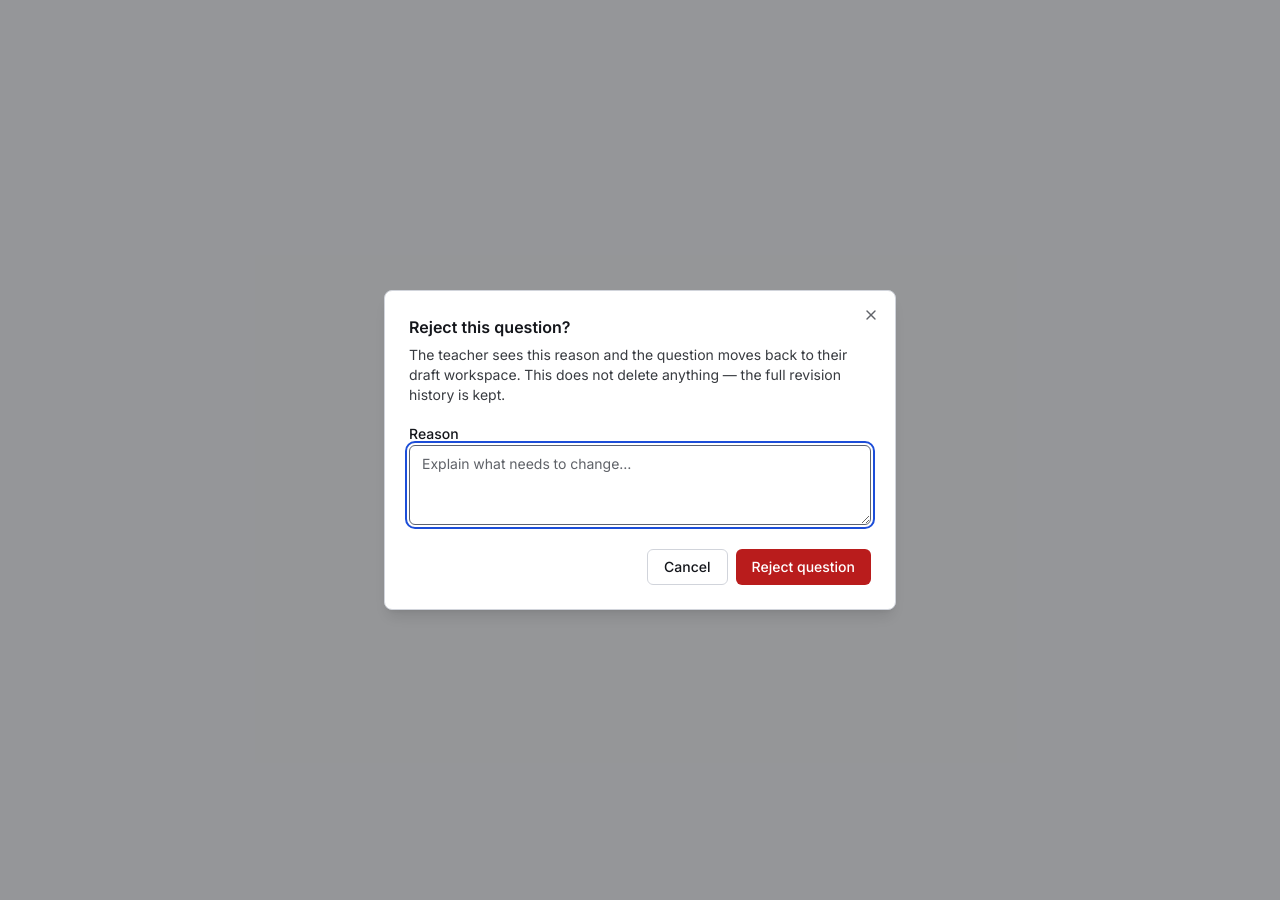
Test: ReviewDecisionDialog › stays open and shows an inline error when the mutation rejects
Type "A real reason." into the text box labelled "Reason" at (640, 485), box [409,445,871,525]
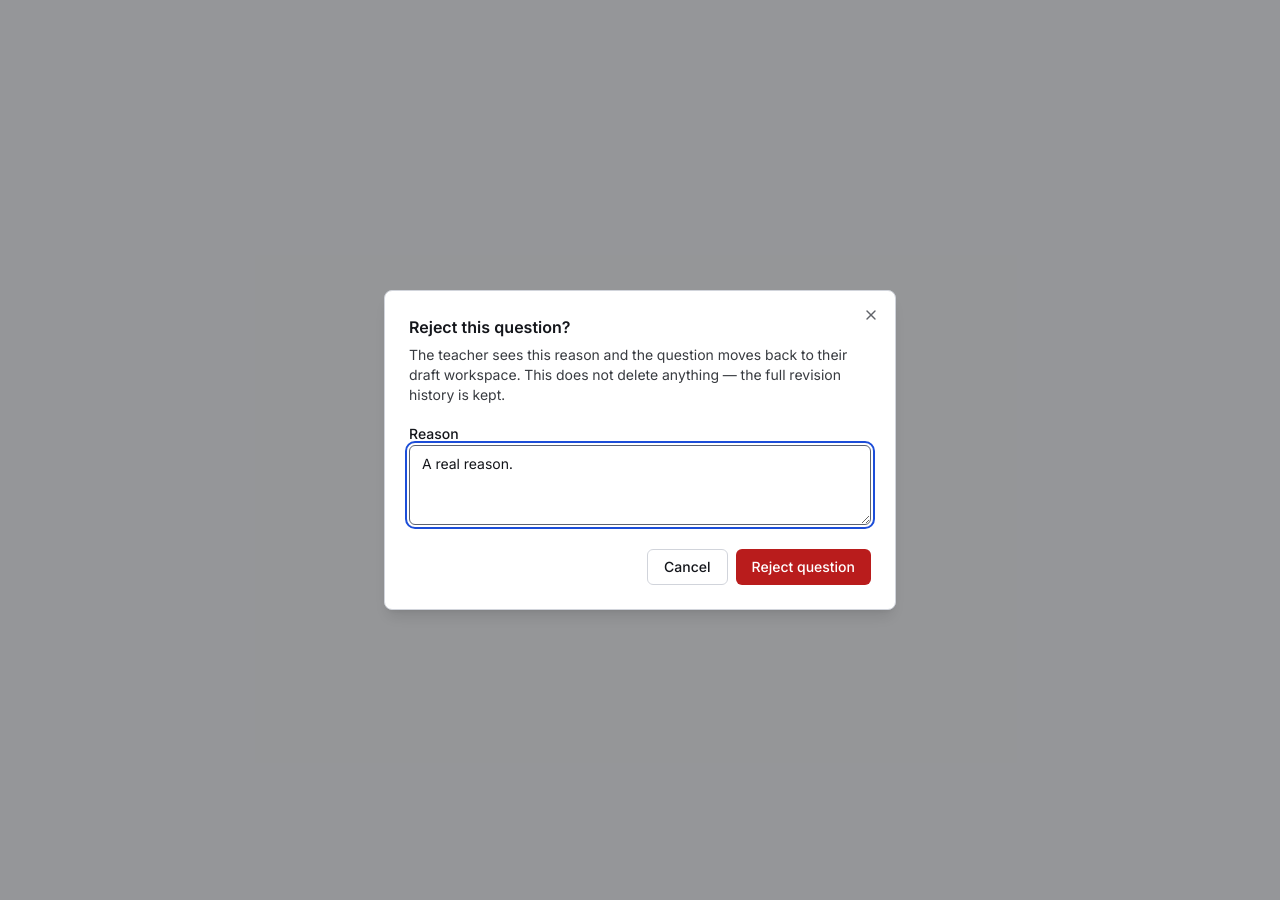
Click the button "Reject question" at (803, 567), box [736,549,871,585]
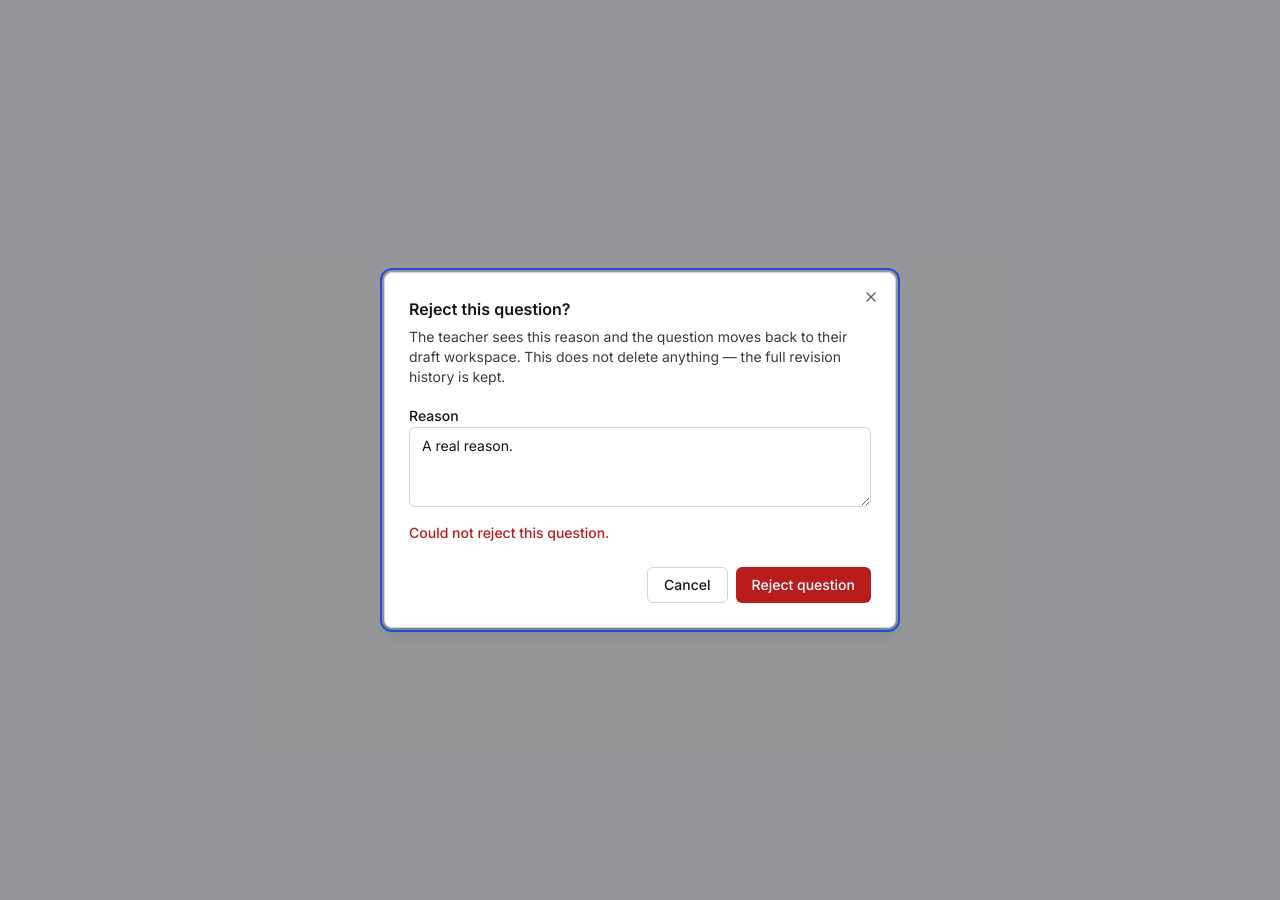
Result: the text "Could not reject this question." is shown at [409,524,609,541]
